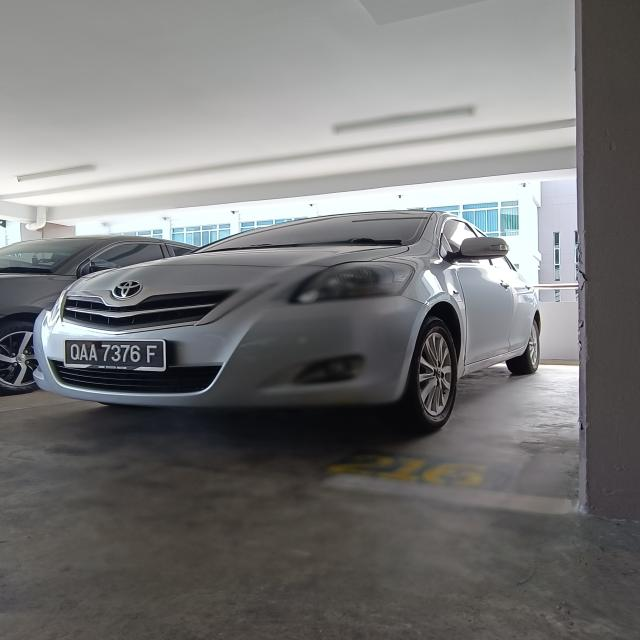ToyotaVios: (29, 208, 542, 432)
